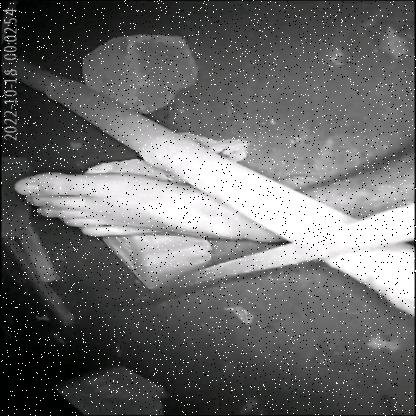leg: (6, 142, 416, 262)
